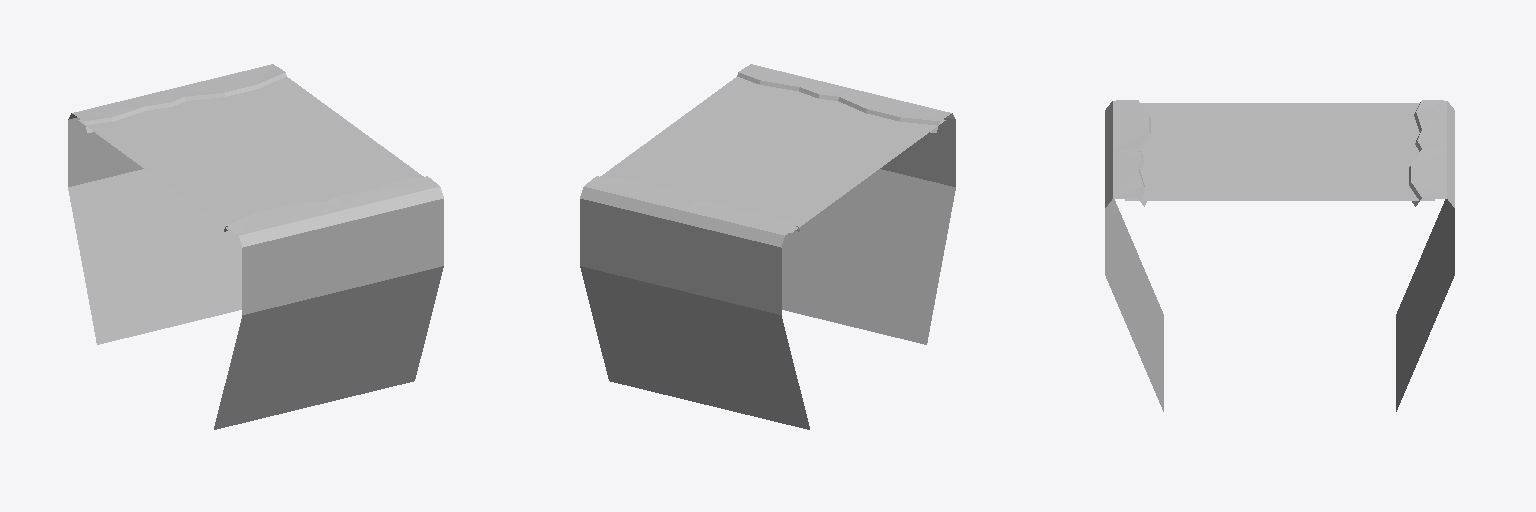
File: module_tile_02_bd.obj
3 renders of one model, left to right at view 1: azimuth 30°, elevation 25°; view 2: azimuth 150°, elevation 25°; view 3: azimuth 270°, elevation 25°, orthographic.
Visible parts, largest first — view 1: module_tile_02_bd; view 2: module_tile_02_bd; view 3: module_tile_02_bd.
Boxes of the visible parts, x1,y1,x2,y2 form: module_tile_02_bd: [68, 64, 443, 429]; module_tile_02_bd: [580, 64, 955, 429]; module_tile_02_bd: [1105, 100, 1454, 411].
Bounding box in the file's own units: 400 × 406 × 600.